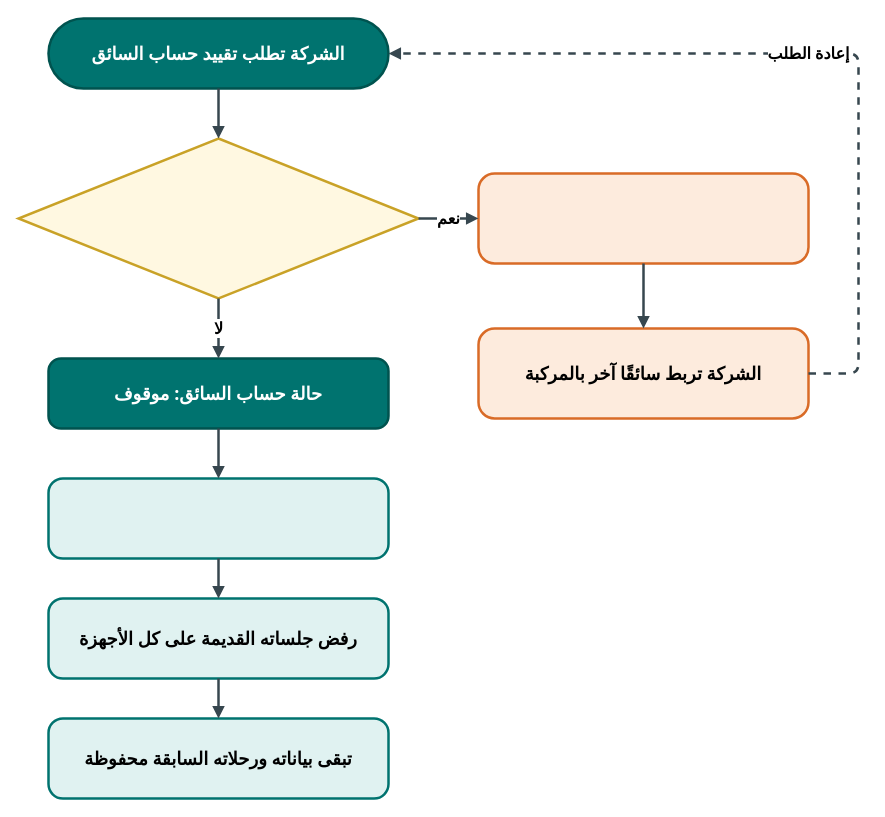
Some shapes in this 885 by 817 pixel diagram are drawn without their labels. The shapes that lost their labels are listed below. From the top down, each one's centre as x and y in pixels, then its label:
At pixel 218 218: "هل مركبة السائق مسندة لرحلات قادمة أو جارية؟".
At pixel 643 218: "يرفض الخادم التقييد ويعرض أسماء الرحلات".
At pixel 218 518: "منع دخوله إلى المنصة والتطبيق".
